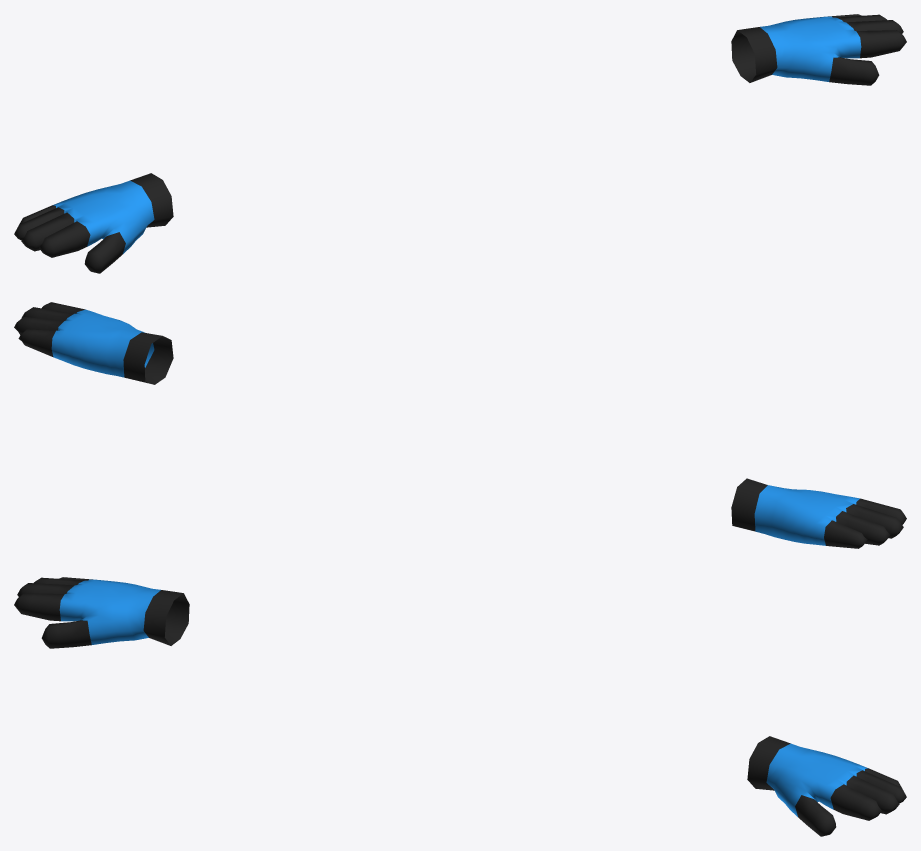
File: Glove_018.glb
The picture shows the model from 3 angles, top to bottom: view 1: azimuth 30°, elevation 25°; view 2: azimuth 150°, elevation 25°; view 3: azimuth 330°, elevation 25°; orthographic projection.
Parts seen in each view (by area): view 1: Glove_018; view 2: Glove_018; view 3: Glove_018.
Boxes of the visible parts, x1=… form: Glove_018: x1=14, y1=14, x2=906, y2=273; Glove_018: x1=14, y1=302, x2=906, y2=548; Glove_018: x1=14, y1=577, x2=906, y2=836.
Bounding box in the file's own units: 1.82 × 0.0986 × 0.182.
1 material, 1 textured.
